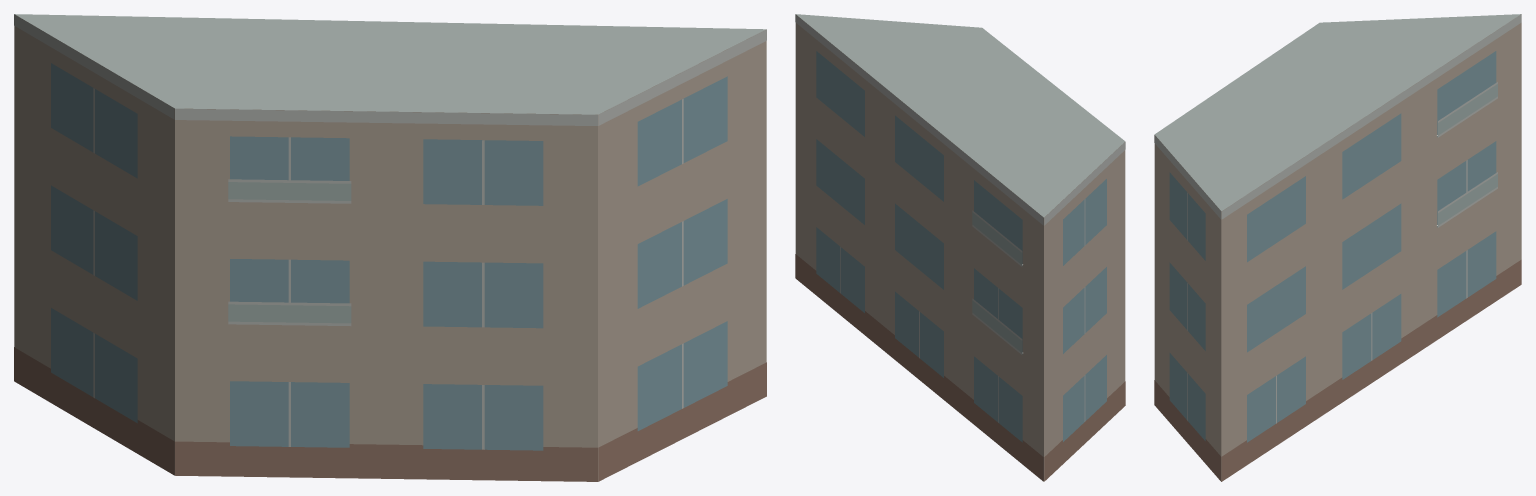
File: survey-upis-32890713.glb
The picture shows the model from 3 angles, left to right: view 1: azimuth 30°, elevation 25°; view 2: azimuth 150°, elevation 25°; view 3: azimuth 270°, elevation 25°; orthographic projection. The views are drawn at different scales.
Visible parts, largest first — view 1: survey-upis-32890713.tmp; view 2: survey-upis-32890713.tmp; view 3: survey-upis-32890713.tmp.
Boxes of the visible parts, box(x1,y1,x2,y2) form: survey-upis-32890713.tmp: box(14, 14, 766, 481); survey-upis-32890713.tmp: box(795, 14, 1125, 481); survey-upis-32890713.tmp: box(1154, 14, 1521, 481).
Size of the model in its own units: 12.21 by 7.8 by 9.6.
